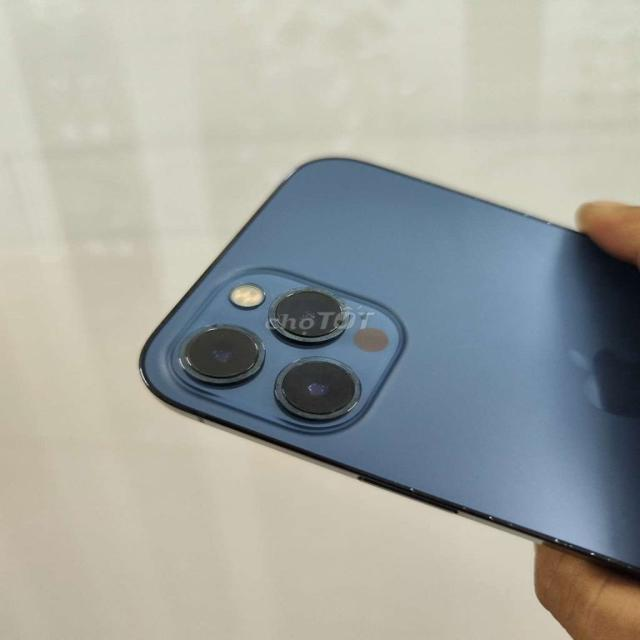gen_12_13: (130, 153, 640, 581)
